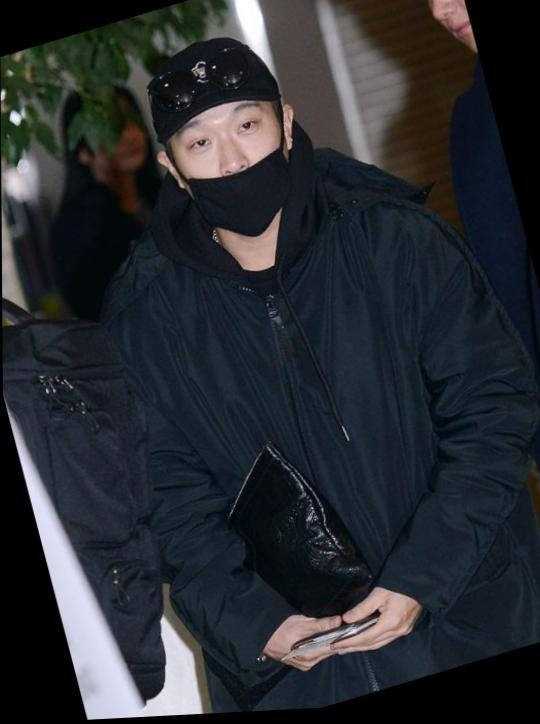NONE: (403, 1, 481, 79)
WRONG: (156, 80, 315, 248)
